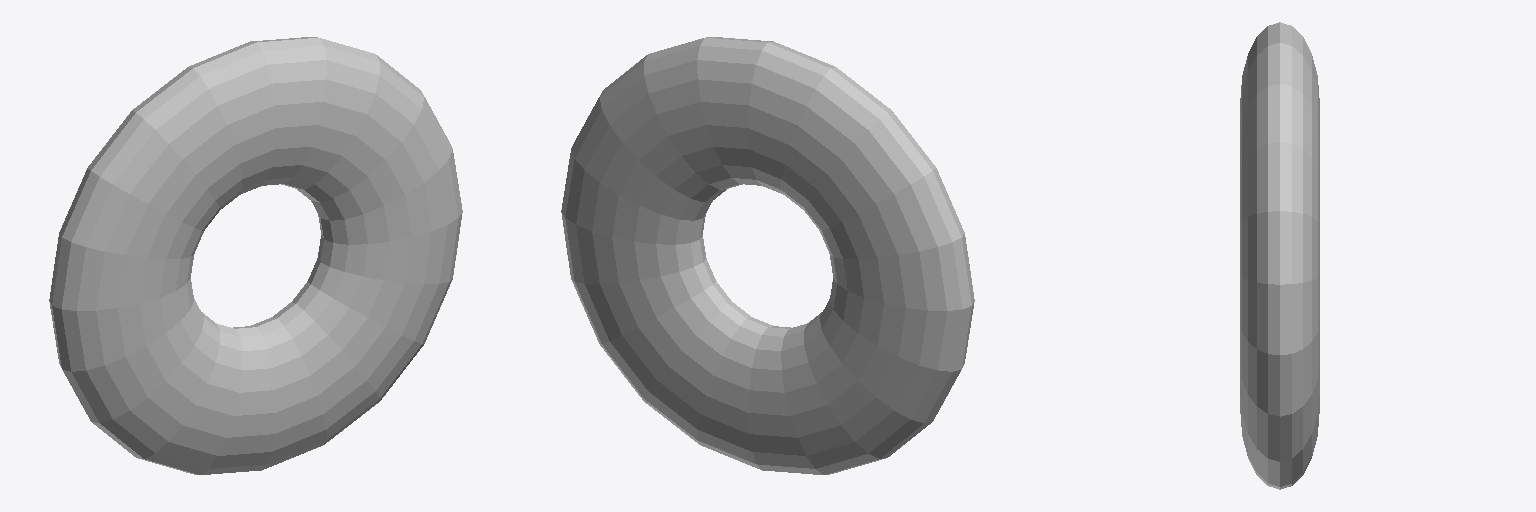
The model's file is crosshair.obj.
3 renders of one model, left to right at view 1: azimuth 30°, elevation 25°; view 2: azimuth 150°, elevation 25°; view 3: azimuth 270°, elevation 25°, orthographic.
Visible parts, largest first — view 1: pTorus2; view 2: pTorus2; view 3: pTorus2.
Boxes of the visible parts, x1=… form: pTorus2: x1=49, y1=37, x2=462, y2=474; pTorus2: x1=561, y1=37, x2=974, y2=474; pTorus2: x1=1240, y1=22, x2=1319, y2=489.
Bounding box in the file's own units: 0.0743 × 0.0743 × 0.0125.